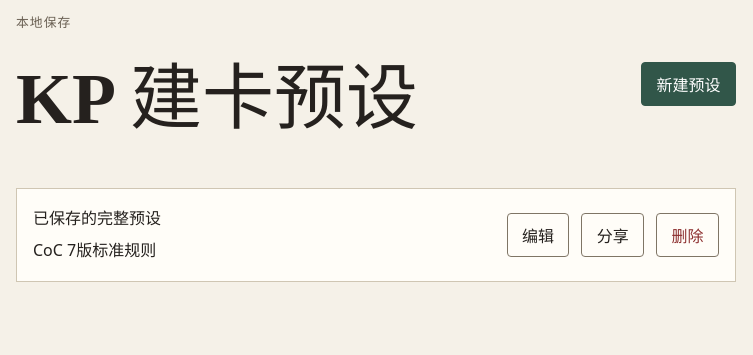
KPPresetsPage share UI › shows a readable compression error without removing local presets
The width and height of the screenshot is (753, 355).
Step 1. Click the button "分享" → click(613, 235), box [581,213,644,257]
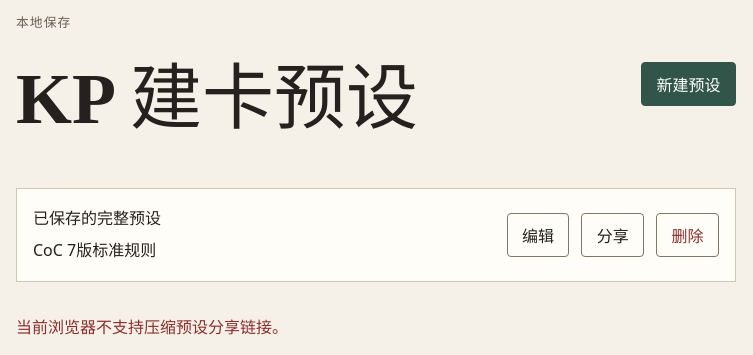
Expected: the message "当前浏览器不支持压缩预设分享链接。" is shown, [16,316,288,338]
